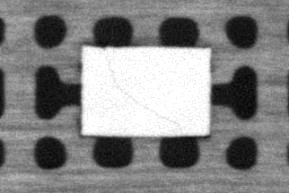DIE_CRACK: (105, 60, 180, 128)
